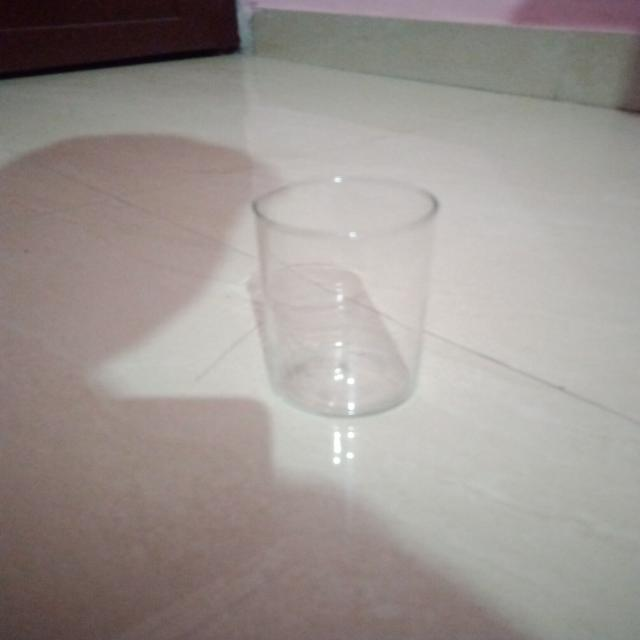Glass: (246, 172, 444, 421)
